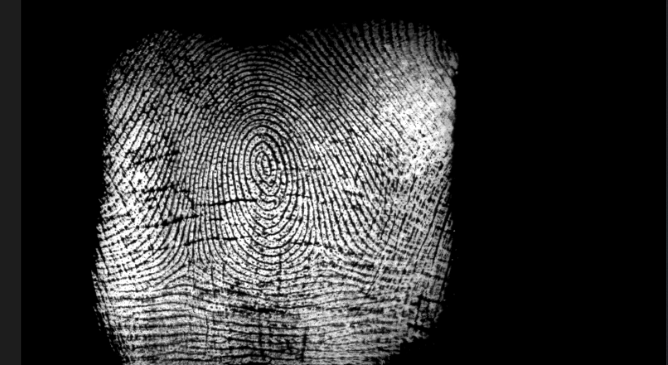nucelo: (253, 142, 274, 188)
verticilo: (311, 239, 333, 264), (175, 256, 199, 275)
